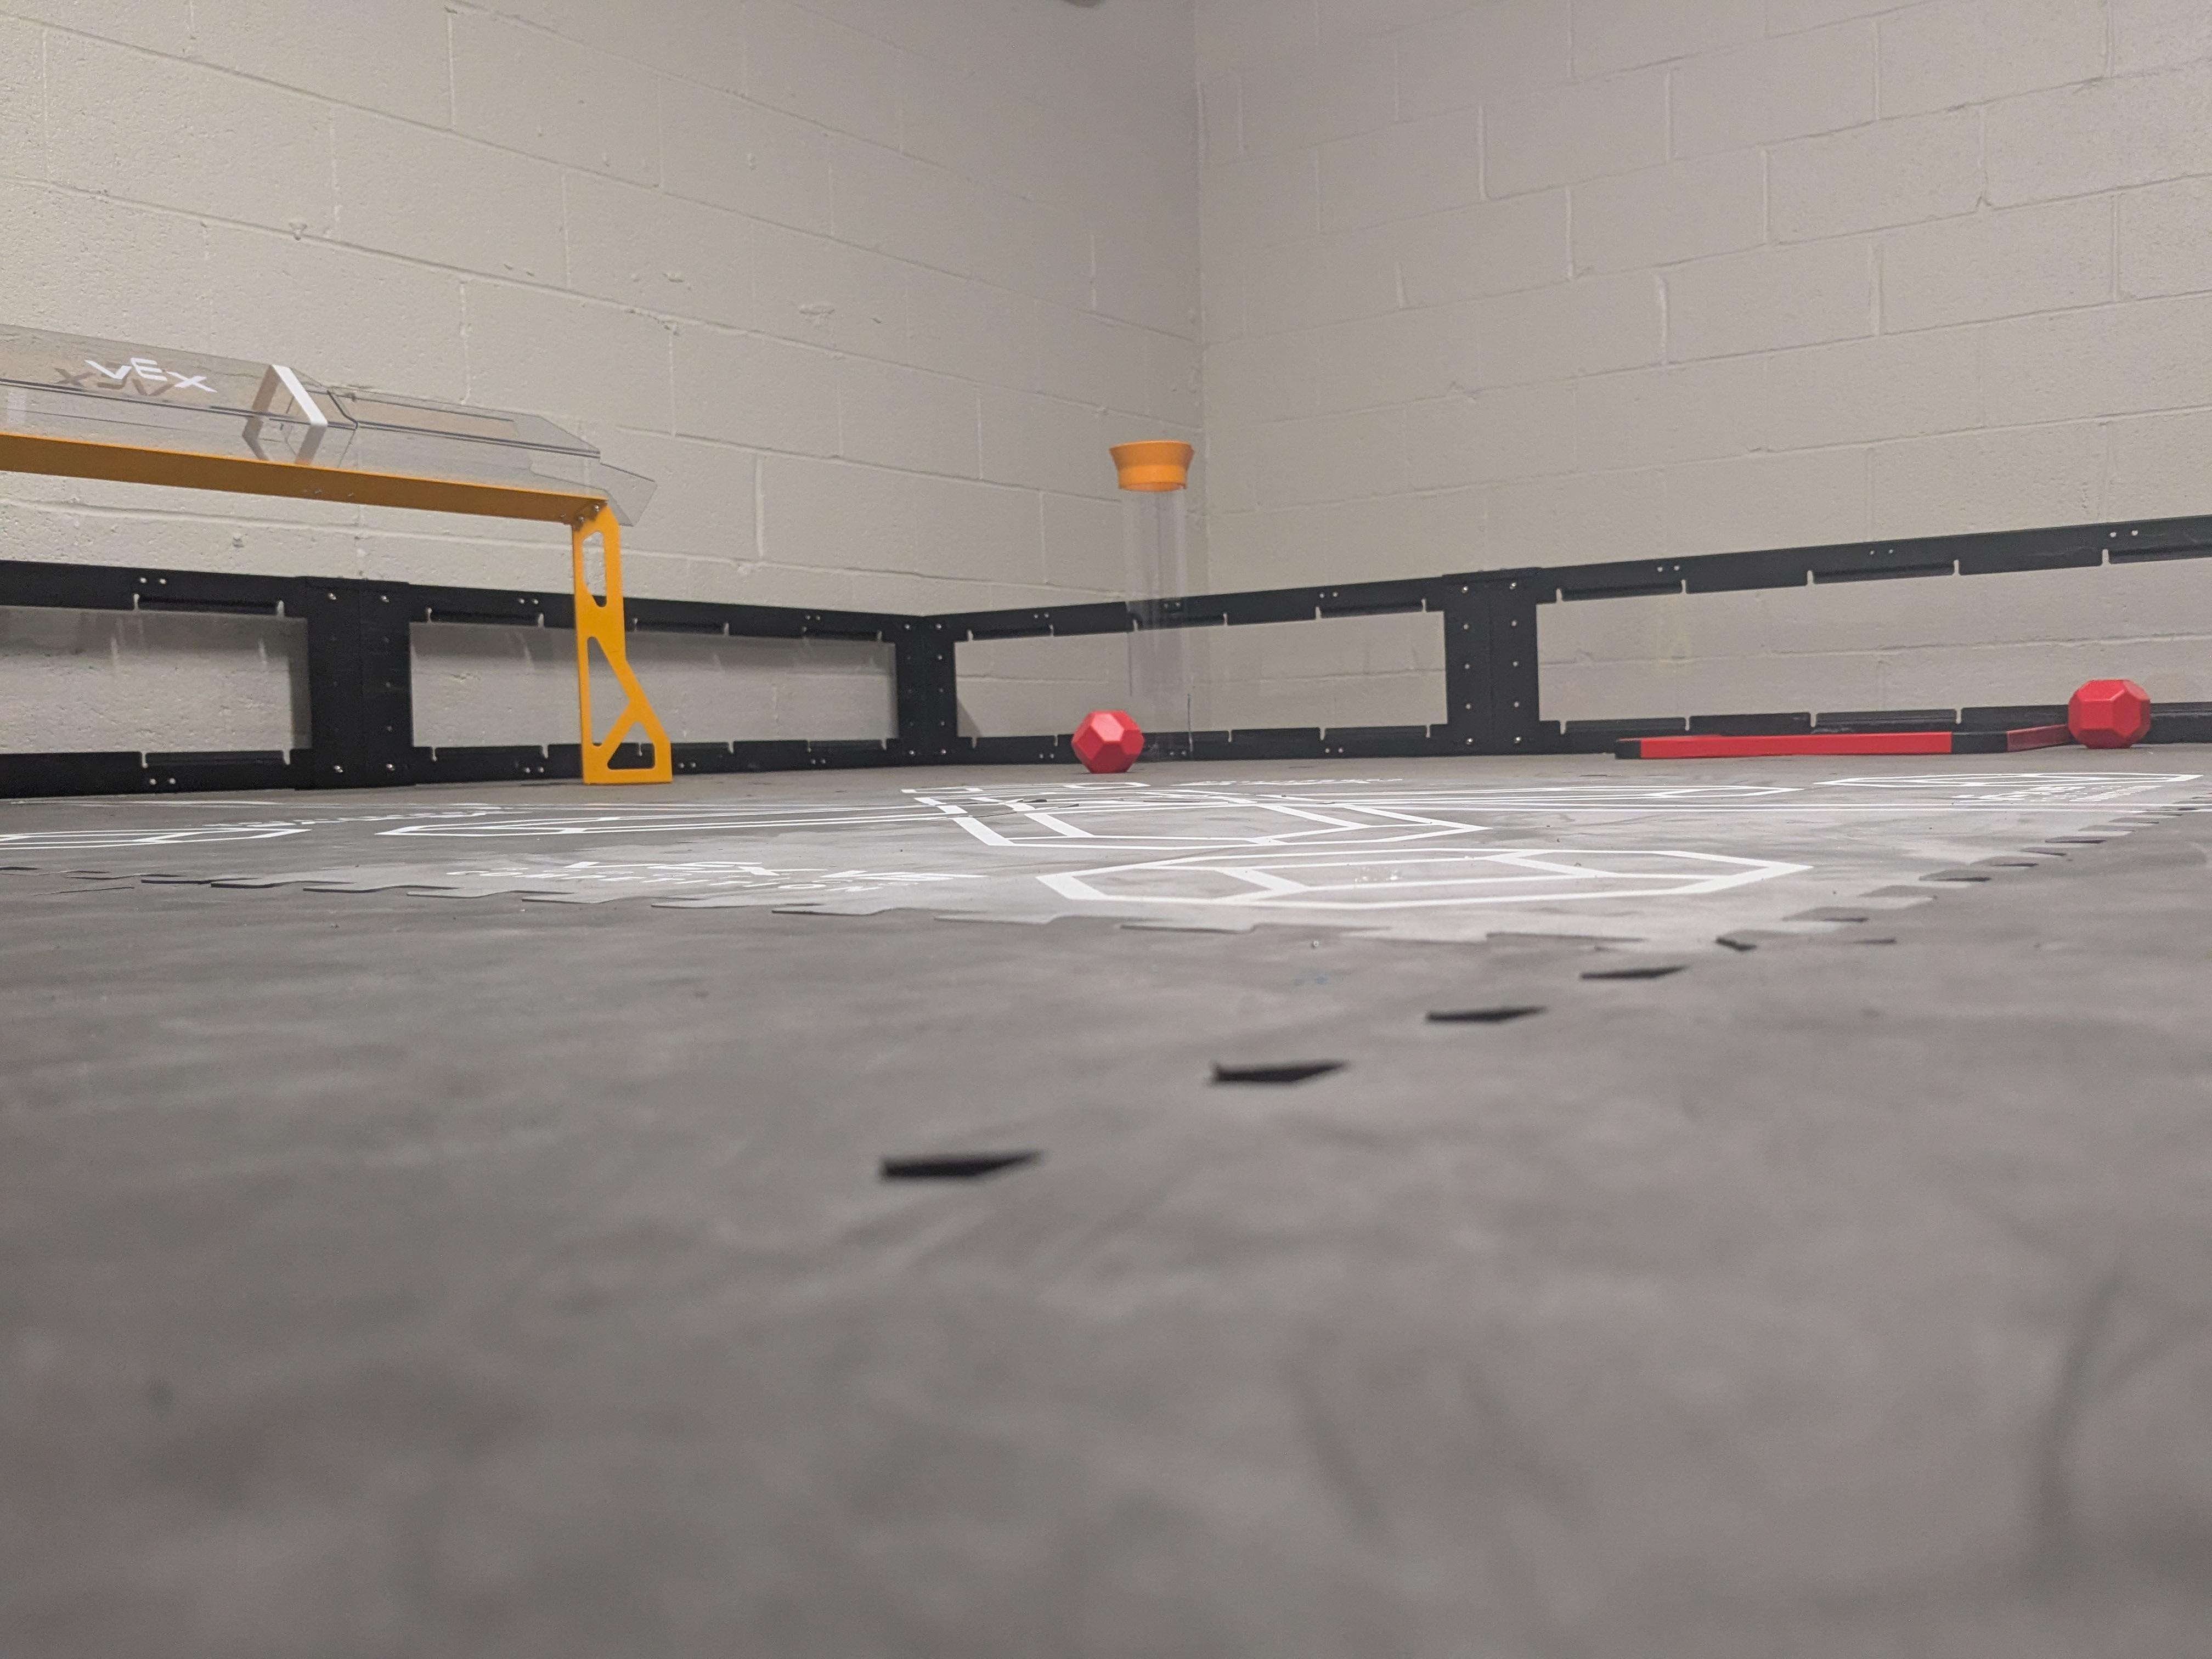Vex-Pieces-RED: (2067, 678, 2151, 748), (1071, 711, 1144, 774)
